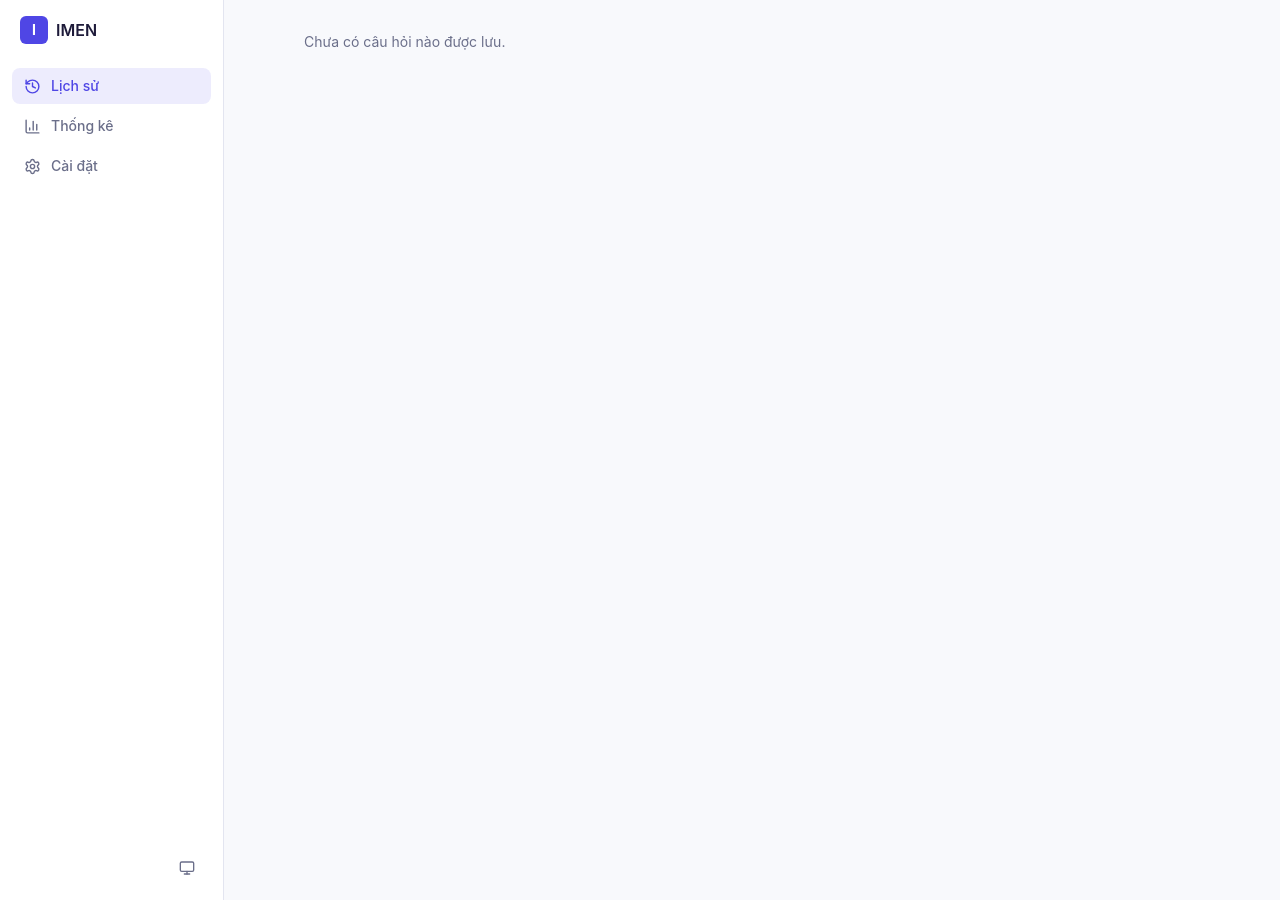
Test: options shell › switches tabs on click
Click the tab "Cài đặt".
click(112, 166)  # box left=12, top=148, right=211, bottom=184
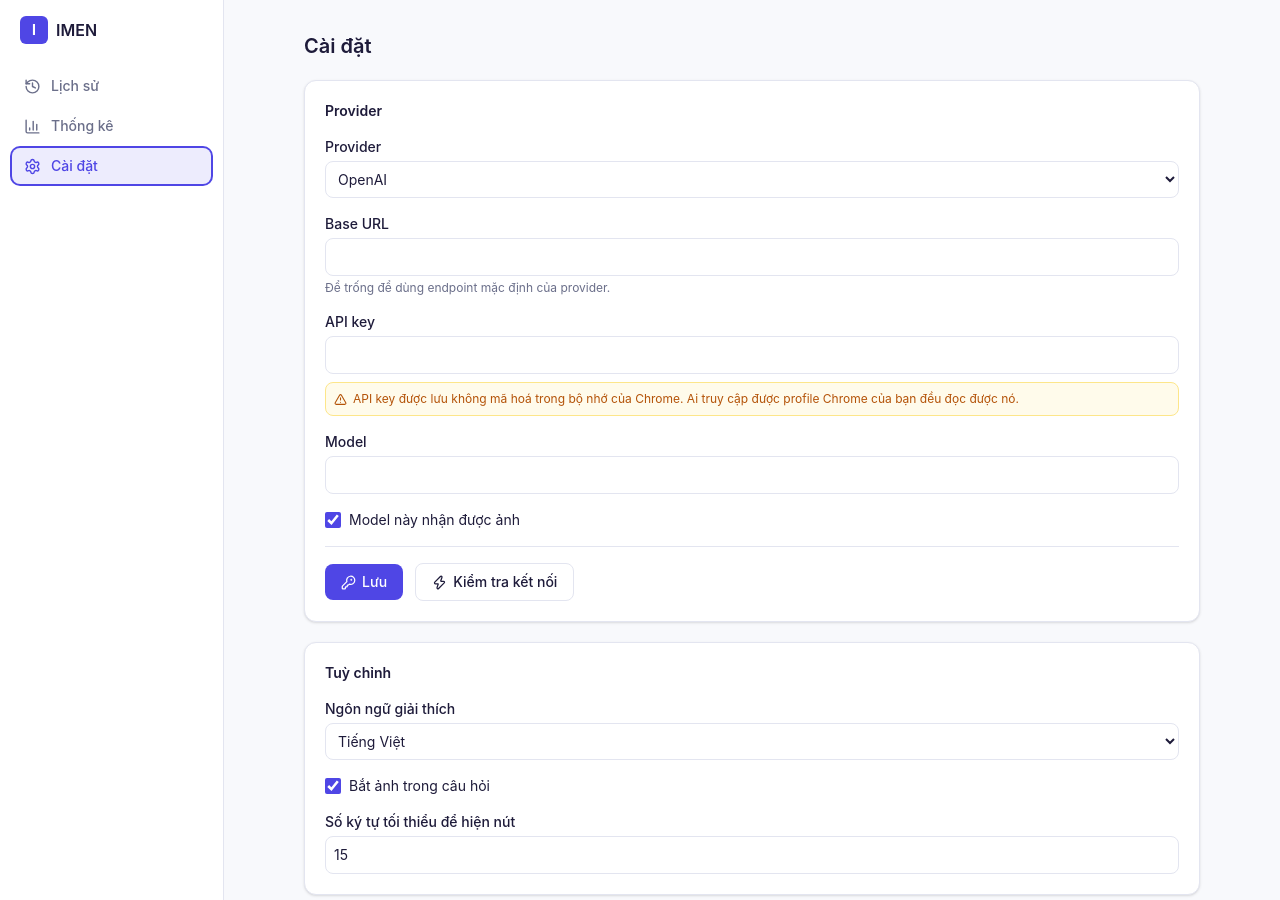
Expected: the heading "Cài đặt" is shown, left=304, top=34, right=372, bottom=58
Click the tab "Thống kê".
click(112, 126)  # box left=12, top=108, right=211, bottom=144
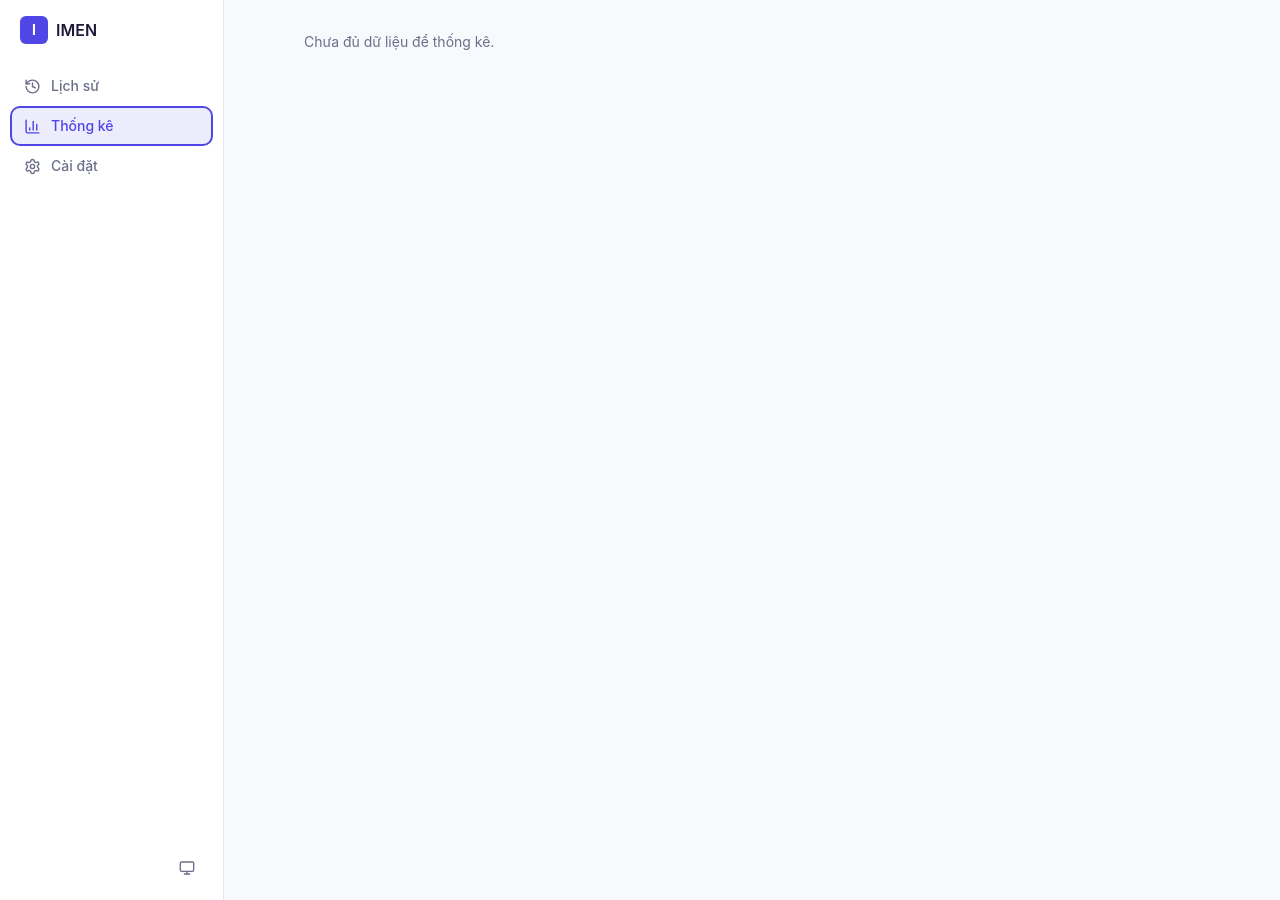
Expected: the text "Chưa đủ dữ liệu để thống kê." is shown, left=304, top=33, right=494, bottom=50
